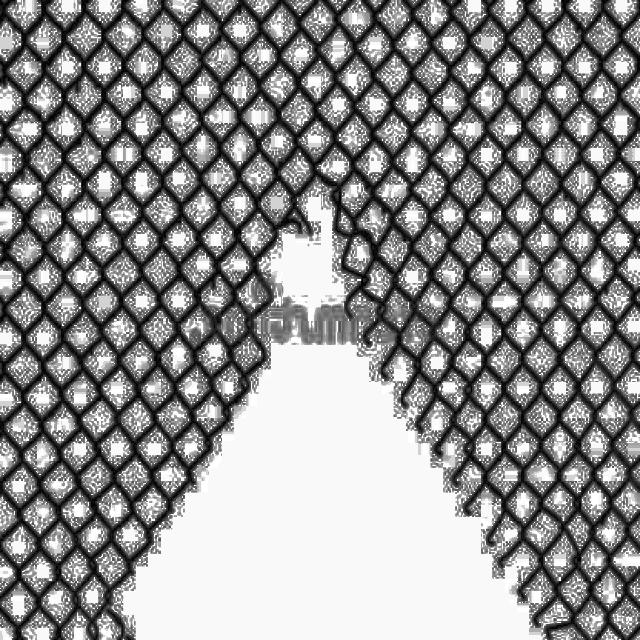anomaly-fence: (87, 156, 537, 639)
